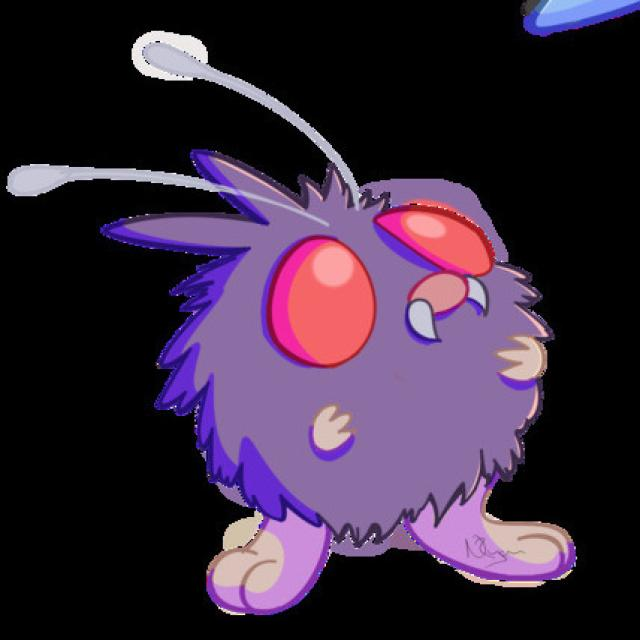Venonat: (168, 158, 577, 606)
